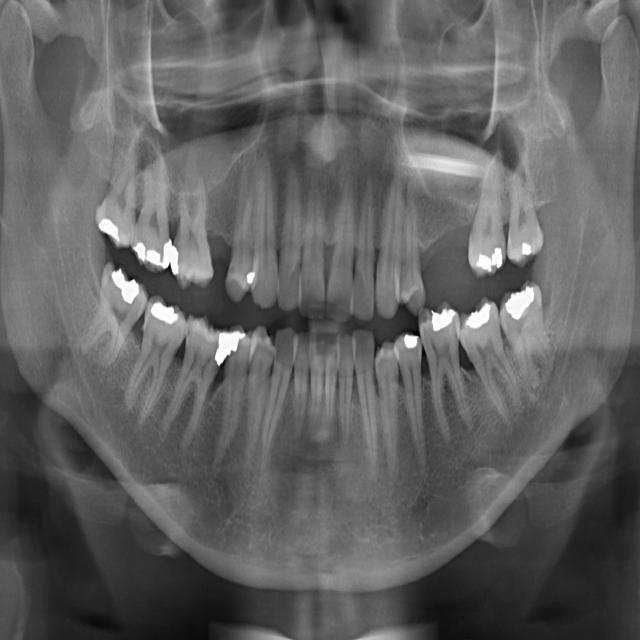3M ESPE Implant: (92, 122, 138, 252)
AGS Medikal Implant: (449, 291, 531, 438)
AMerOss Implant: (415, 296, 478, 449)
Amalgam filling: (128, 140, 180, 277)
Anthogyr Implant: (392, 328, 447, 483)
Bicon Implant: (372, 337, 411, 497)
BioHorizons Implant: (351, 325, 389, 489)
BioLife Implant: (338, 332, 354, 451)
Biomet 3i Implant: (324, 330, 338, 431)
Blue Sky Bio Implant: (308, 329, 325, 438)
Camlog Implant: (293, 329, 309, 444)
Caries: (352, 165, 374, 322)
Composite filling: (258, 324, 298, 477)
Cowellmedi Implant: (241, 321, 275, 478)
Crown: (210, 321, 254, 482)
DENTSPLY Implant: (159, 156, 218, 294)
Dentatus Implant: (151, 308, 235, 461)
Dentis Implant: (117, 291, 193, 438)
Dentium Implant: (74, 257, 155, 379)
Filling: (222, 138, 263, 306)
Frontier Implant: (249, 133, 284, 311)
Hiossen Implant: (373, 141, 408, 322)
Implant: (298, 144, 327, 321)
Implant Direct: (276, 148, 306, 315)
Keystone Dental Implant: (325, 147, 359, 327)
MIS Implant: (398, 145, 436, 320)
Megagen Implant: (464, 146, 507, 281)
Neodent Implant: (506, 149, 550, 271)
Neoss Implant: (493, 275, 562, 401)
